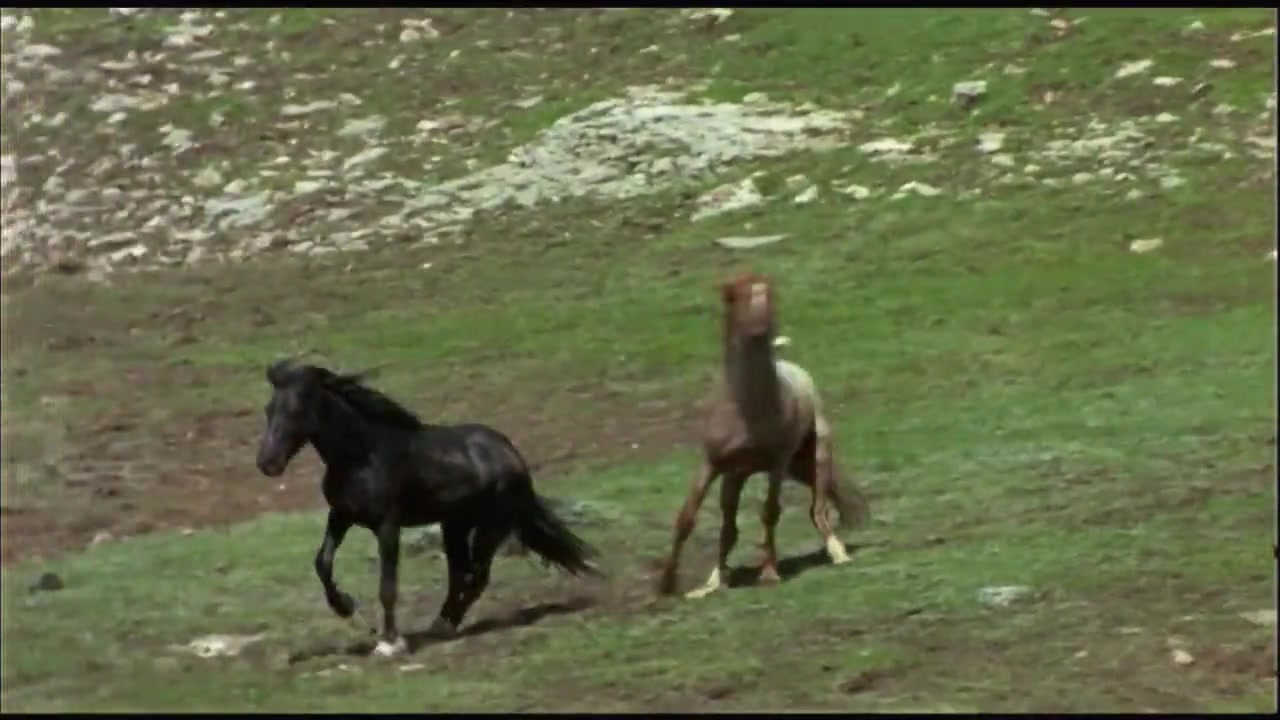horse: (258, 356, 609, 662)
